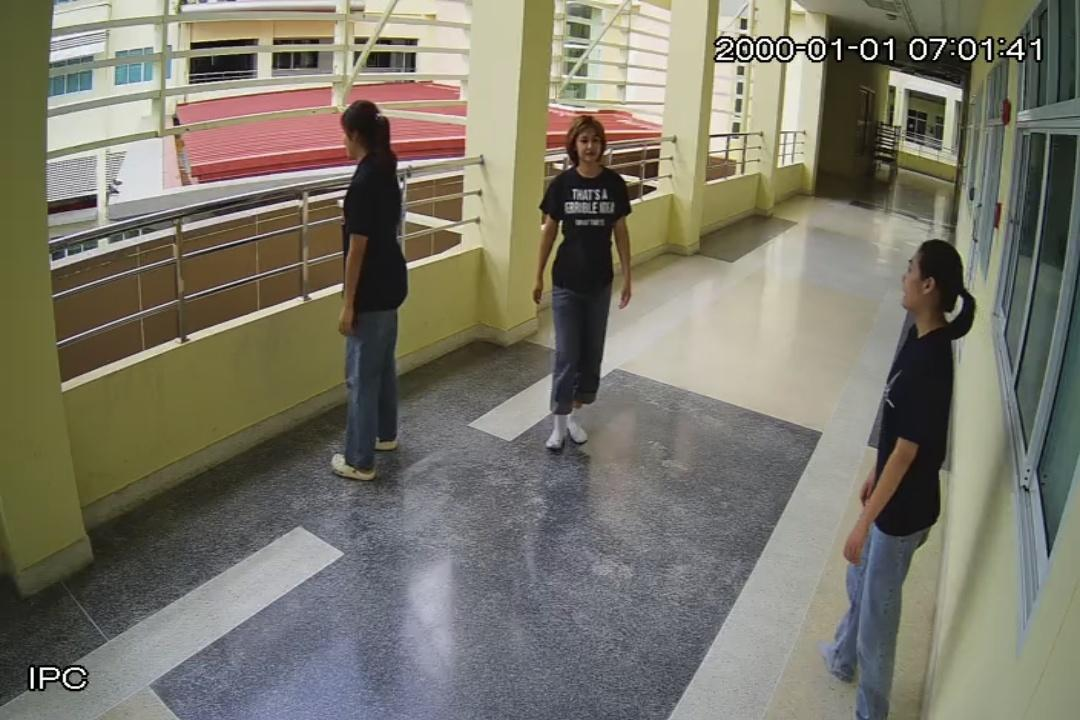normal: (817, 239, 974, 720), (531, 117, 632, 453), (323, 100, 410, 480)
